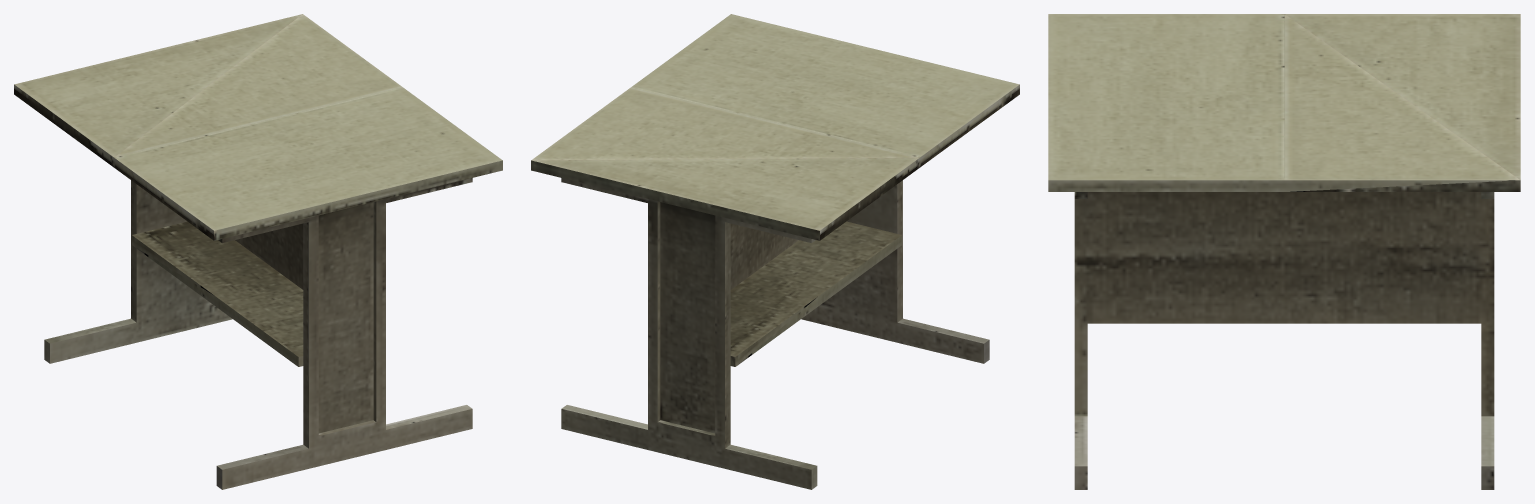
3 views of the same model, side by side, from view 1: azimuth 30°, elevation 25°; view 2: azimuth 150°, elevation 25°; view 3: azimuth 270°, elevation 25° (orthographic). The views are drawn at different scales.
Visible parts, largest first — view 1: Node; view 2: Node; view 3: Node.
Boxes of the visible parts, box(x1,y1,x2,y2) form: Node: box(14, 14, 502, 489); Node: box(531, 14, 1019, 489); Node: box(1048, 14, 1520, 489).
Size of the model in its own units: 0.5833 by 0.525 by 0.7.
1 material, 1 textured.
